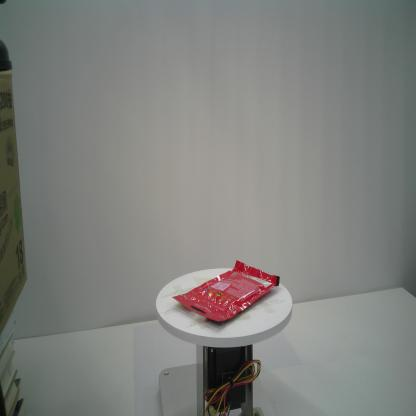Candy: (171, 258, 281, 325)
